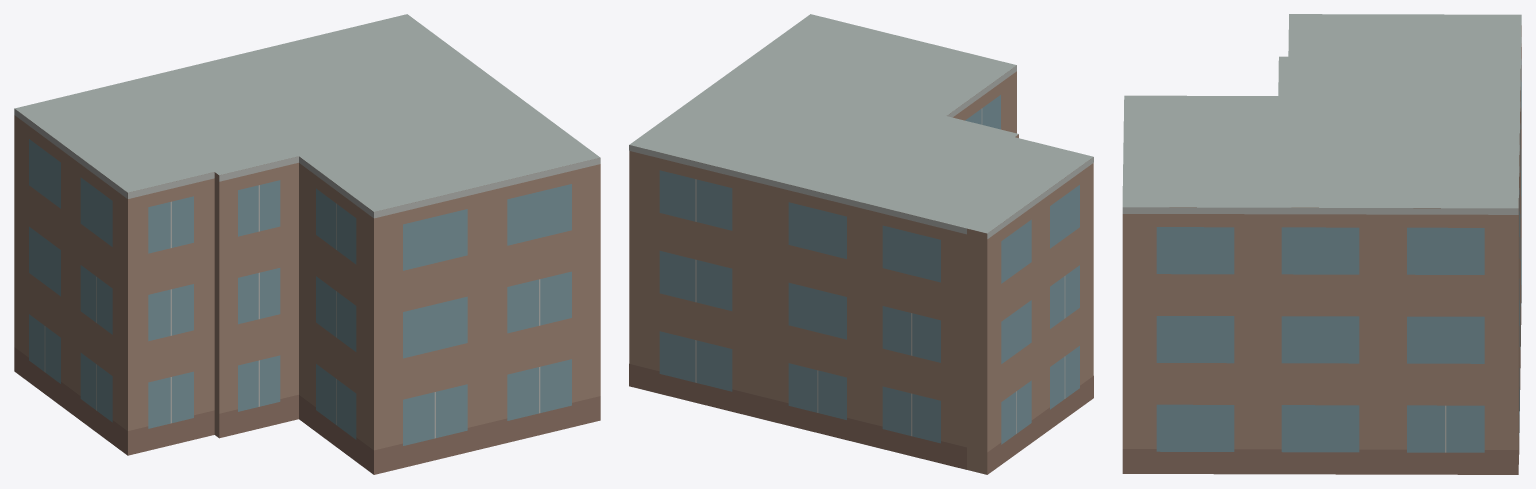
The model's file is survey-upis-32467241.glb.
The picture shows the model from 3 angles, left to right: view 1: azimuth 30°, elevation 25°; view 2: azimuth 150°, elevation 25°; view 3: azimuth 270°, elevation 25°; orthographic projection. The views are drawn at different scales.
Parts seen in each view (by area): view 1: survey-upis-32467241.tmp; view 2: survey-upis-32467241.tmp; view 3: survey-upis-32467241.tmp.
Boxes of the visible parts, x1,y1,x2,y2 form: survey-upis-32467241.tmp: (14, 14, 600, 474); survey-upis-32467241.tmp: (629, 14, 1093, 474); survey-upis-32467241.tmp: (1122, 14, 1521, 474).
Bounding box in the file's own units: 15.49 × 9.9 × 13.44.
